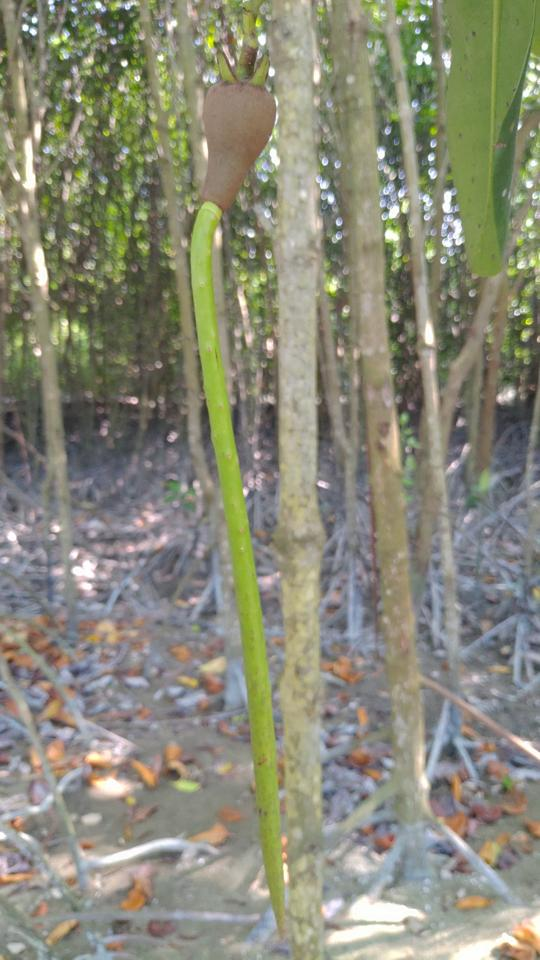setengah matang: (183, 40, 307, 940)
